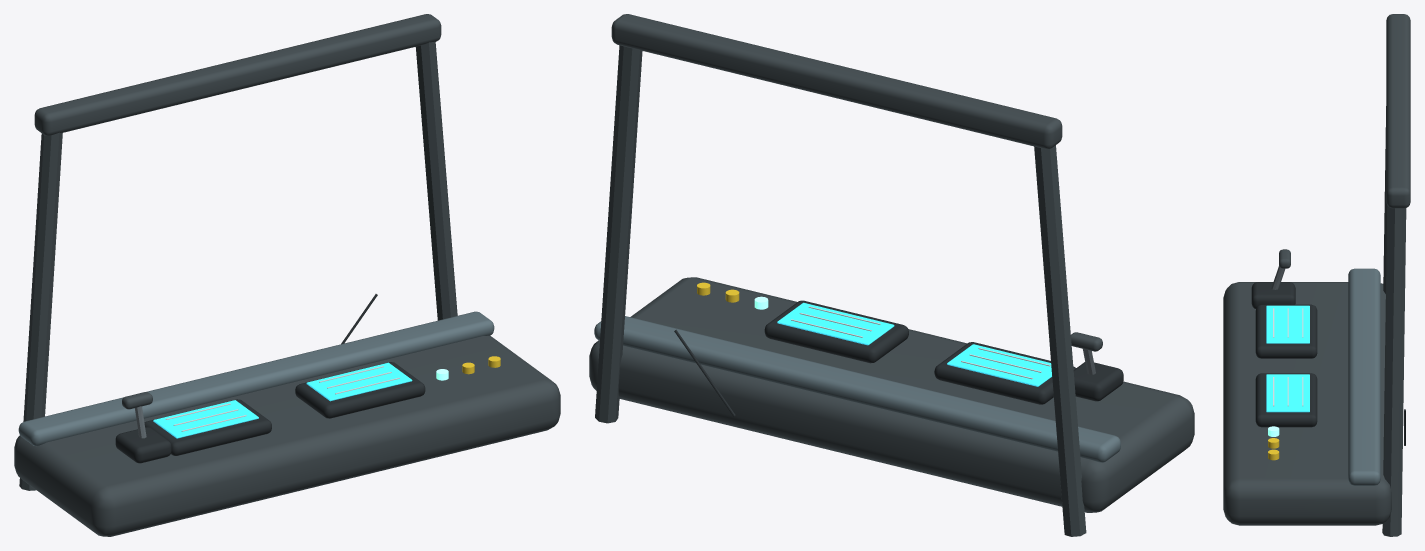
Rendered from driver-cab.glb.
The picture shows the model from 3 angles, left to right: view 1: azimuth 30°, elevation 25°; view 2: azimuth 150°, elevation 25°; view 3: azimuth 270°, elevation 25°; orthographic projection. The views are drawn at different scales.
Visible parts, largest first — view 1: cab_cab_graphite, cab_cab_slate, cab_rubber, cab_screen, cab_ceramic_white; view 2: cab_cab_graphite, cab_cab_slate, cab_rubber, cab_screen, cab_ceramic_white; view 3: cab_cab_graphite, cab_cab_slate, cab_rubber, cab_screen, cab_ceramic_white, cab_safety_yellow.
Part boxes in pixels (x1,y1,x2,y2): cab_cab_graphite: (14, 14, 560, 536); cab_cab_slate: (18, 311, 494, 446); cab_rubber: (115, 294, 425, 463); cab_screen: (153, 362, 412, 438); cab_ceramic_white: (165, 366, 399, 431); cab_cab_graphite: (589, 14, 1194, 536); cab_cab_slate: (594, 316, 1120, 462); cab_rubber: (674, 300, 1123, 416); cab_screen: (777, 302, 1051, 386); cab_ceramic_white: (791, 306, 1050, 379); cab_cab_graphite: (1223, 14, 1410, 536); cab_cab_slate: (1348, 268, 1380, 485); cab_rubber: (1251, 282, 1405, 445); cab_screen: (1266, 305, 1309, 412); cab_ceramic_white: (1273, 308, 1303, 406); cab_safety_yellow: (1268, 438, 1279, 460).
Bounding box in the file's own units: 3.05 × 2.3 × 1.15.
